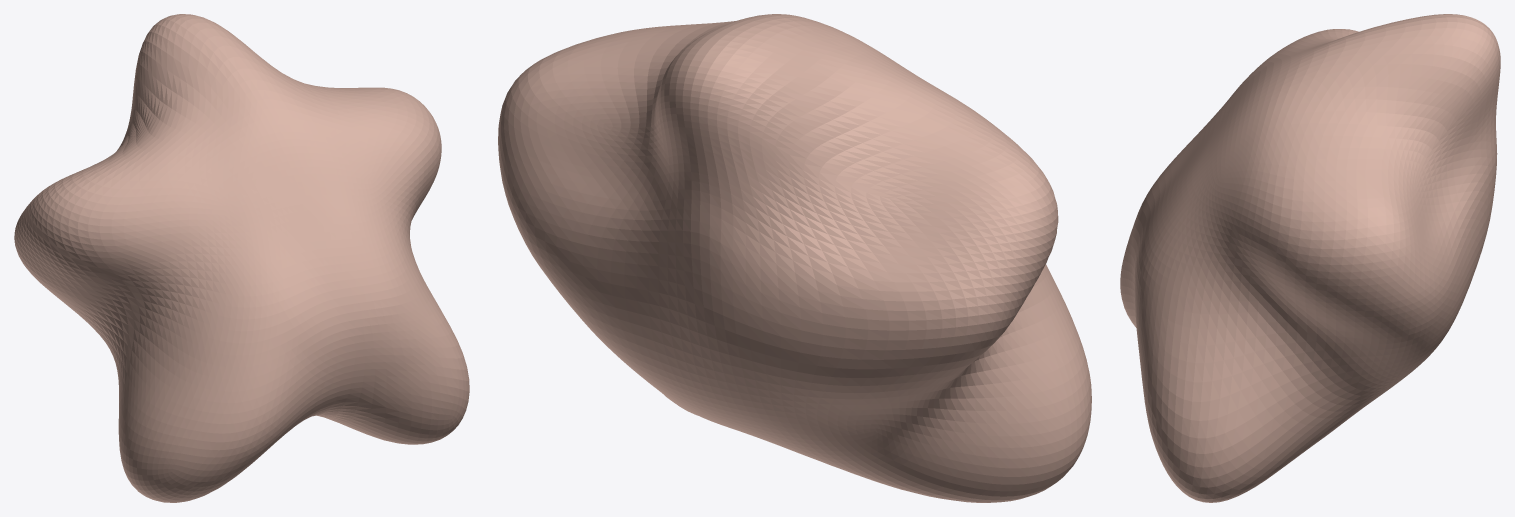
The model's file is decoration_8_1.glb.
The picture shows the model from 3 angles, left to right: view 1: azimuth 30°, elevation 25°; view 2: azimuth 150°, elevation 25°; view 3: azimuth 270°, elevation 25°; orthographic projection. The views are drawn at different scales.
Visible parts, largest first — view 1: Sphere; view 2: Sphere; view 3: Sphere.
Boxes of the visible parts, bbox=[...] form: Sphere: bbox=[14, 14, 469, 502]; Sphere: bbox=[498, 14, 1091, 502]; Sphere: bbox=[1120, 14, 1500, 502].
Bounding box in the file's own units: 0.2539 × 0.2314 × 0.1915.
